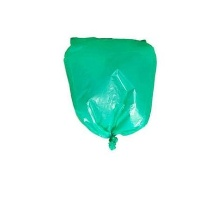plastic_bag: (48, 33, 163, 154)
